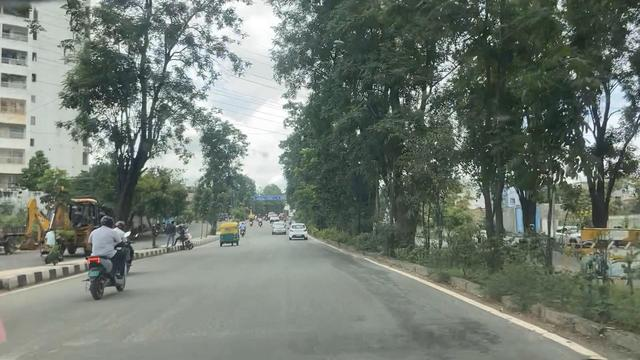LMV: (86, 211, 121, 298), (221, 221, 239, 247), (287, 222, 307, 241), (271, 221, 286, 236)
RoadDamages: (321, 248, 386, 282), (423, 317, 483, 353), (366, 285, 433, 317), (364, 329, 418, 360)
